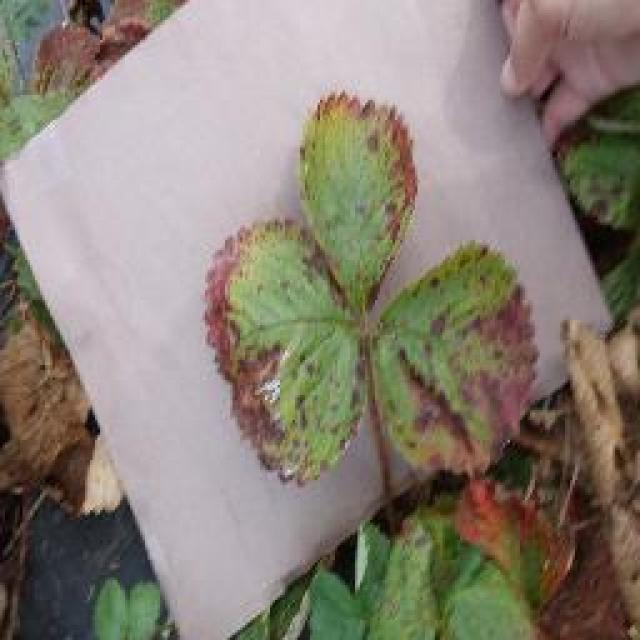Strawberry leaf scorch: (232, 252, 510, 420)
